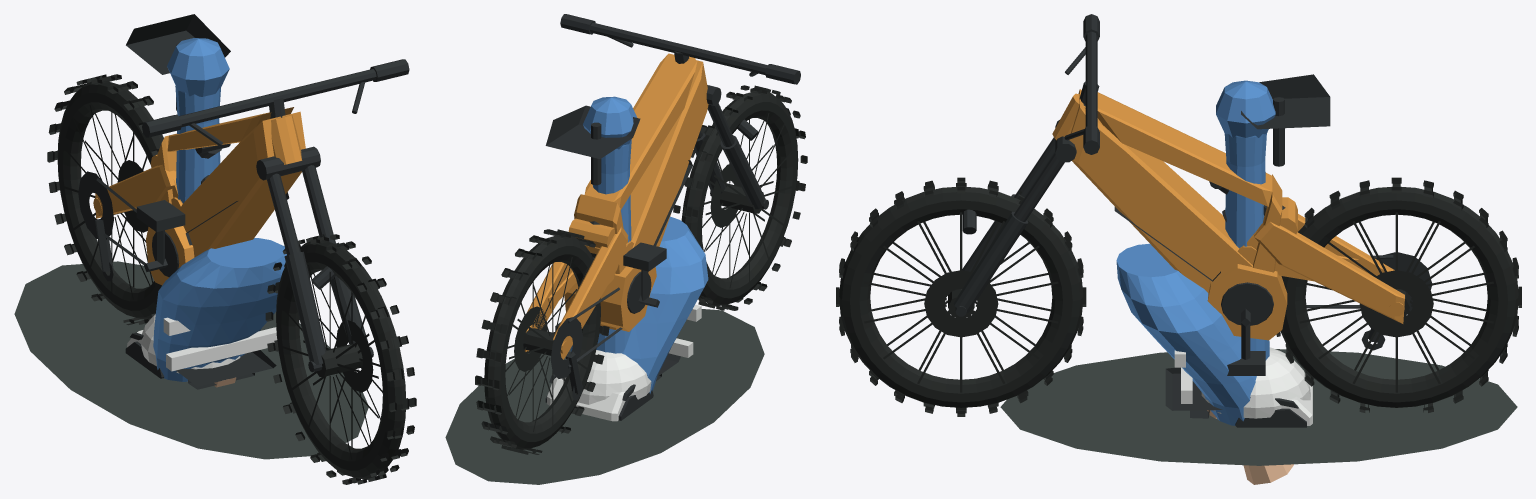
Rendered from WG_RiderBike.glb.
The picture shows the model from 3 angles, left to right: view 1: azimuth 30°, elevation 25°; view 2: azimuth 150°, elevation 25°; view 3: azimuth 270°, elevation 25°; orthographic projection. The views are drawn at different scales.
Parts seen in each view (by area): view 1: GEO_Shadow_LOD0, GEO_FrontWheel_LOD0, GEO_MainFrame_LOD0, GEO_RearWheel_LOD0, GEO_Torso_LOD0, GEO_BikeComponents_LOD0, GEO_Fork_LOD0, GEO_Limb_LOD0, GEO_Swingarm_LOD0, GEO_JerseyAccent_LOD0, GEO_HelmetAccent_LOD0, GEO_Crank_LOD0 (+1 smaller); view 2: GEO_Shadow_LOD0, GEO_MainFrame_LOD0, GEO_RearWheel_LOD0, GEO_FrontWheel_LOD0, GEO_BikeComponents_LOD0, GEO_Torso_LOD0, GEO_Swingarm_LOD0, GEO_Limb_LOD0, GEO_Helmet_LOD0, GEO_Fork_LOD0, GEO_Crank_LOD0, GEO_HelmetAccent_LOD0 (+1 smaller); view 3: GEO_Shadow_LOD0, GEO_FrontWheel_LOD0, GEO_RearWheel_LOD0, GEO_MainFrame_LOD0, GEO_Torso_LOD0, GEO_BikeComponents_LOD0, GEO_Swingarm_LOD0, GEO_Limb_LOD0, GEO_Fork_LOD0, GEO_Helmet_LOD0, GEO_HelmetAccent_LOD0, GEO_Crank_LOD0 (+1 smaller).
Part boxes in pixels (box(x1,y1,x2,y2)): GEO_Shadow_LOD0: box(14, 261, 368, 459); GEO_FrontWheel_LOD0: box(265, 234, 416, 484); GEO_MainFrame_LOD0: box(146, 107, 305, 285); GEO_RearWheel_LOD0: box(47, 74, 163, 325); GEO_Torso_LOD0: box(153, 238, 286, 381); GEO_BikeComponents_LOD0: box(78, 14, 409, 281); GEO_Fork_LOD0: box(256, 146, 373, 372); GEO_Limb_LOD0: box(167, 38, 229, 203); GEO_Swingarm_LOD0: box(93, 155, 182, 218); GEO_JerseyAccent_LOD0: box(163, 317, 277, 371); GEO_HelmetAccent_LOD0: box(125, 332, 276, 386); GEO_Crank_LOD0: box(136, 200, 185, 272); GEO_Shadow_LOD0: box(445, 309, 764, 484); GEO_MainFrame_LOD0: box(564, 53, 708, 331); GEO_RearWheel_LOD0: box(475, 229, 609, 454); GEO_FrontWheel_LOD0: box(673, 85, 807, 310); GEO_BikeComponents_LOD0: box(545, 14, 800, 400); GEO_Torso_LOD0: box(570, 216, 708, 393); GEO_Swingarm_LOD0: box(524, 218, 633, 359); GEO_Limb_LOD0: box(583, 96, 637, 353); GEO_Helmet_LOD0: box(547, 350, 651, 421); GEO_Fork_LOD0: box(694, 85, 768, 209); GEO_Crank_LOD0: box(555, 242, 666, 331); GEO_HelmetAccent_LOD0: box(545, 353, 680, 420); GEO_Shadow_LOD0: box(1000, 349, 1517, 465); GEO_FrontWheel_LOD0: box(836, 177, 1086, 416); GEO_RearWheel_LOD0: box(1276, 177, 1521, 412); GEO_MainFrame_LOD0: box(1052, 89, 1287, 340); GEO_Torso_LOD0: box(1116, 243, 1256, 425); GEO_BikeComponents_LOD0: box(1064, 14, 1431, 350); GEO_Swingarm_LOD0: box(1237, 197, 1404, 323); GEO_Limb_LOD0: box(1216, 80, 1275, 360); GEO_Fork_LOD0: box(953, 104, 1085, 316); GEO_Helmet_LOD0: box(1201, 347, 1312, 425); GEO_HelmetAccent_LOD0: box(1165, 367, 1306, 427); GEO_Crank_LOD0: box(1227, 309, 1265, 375).
Size of the model in its own units: 0.9 by 1.34 by 2.07.
